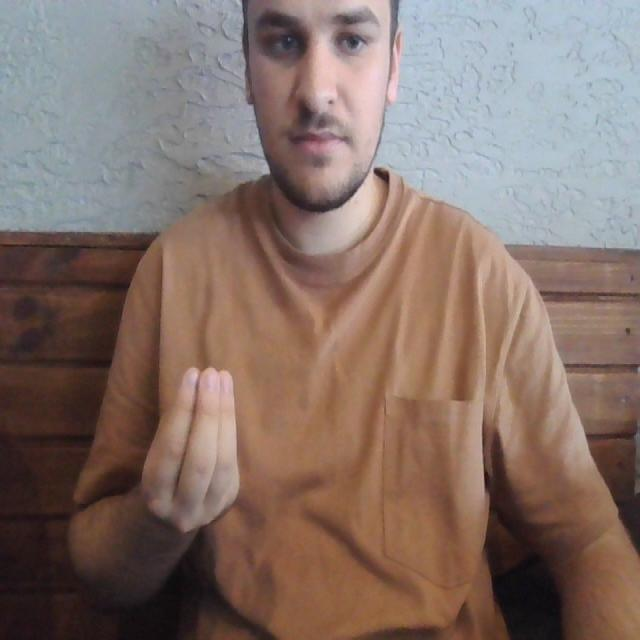iyi: (140, 365, 243, 534)
